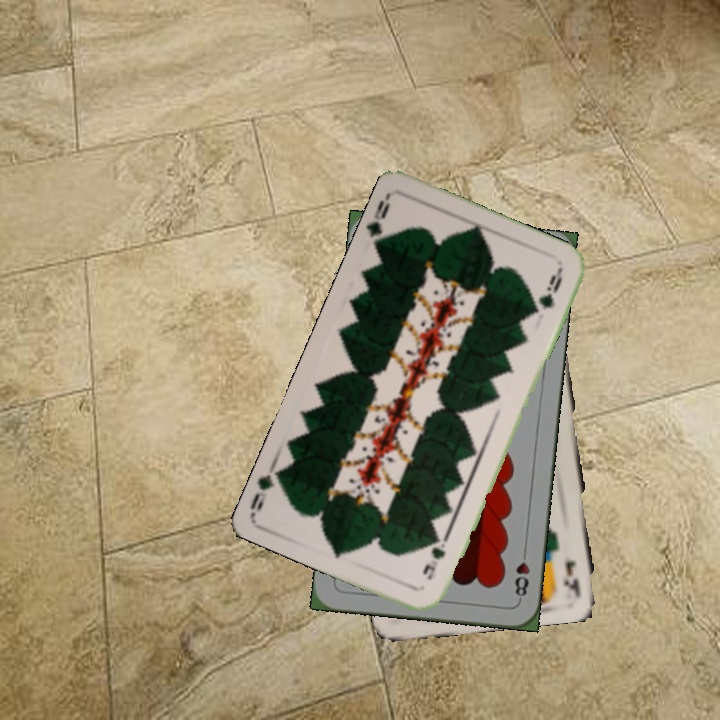EK: (561, 556, 583, 596)
G9: (364, 191, 393, 252), (418, 531, 451, 583)
H8: (511, 544, 532, 603)
